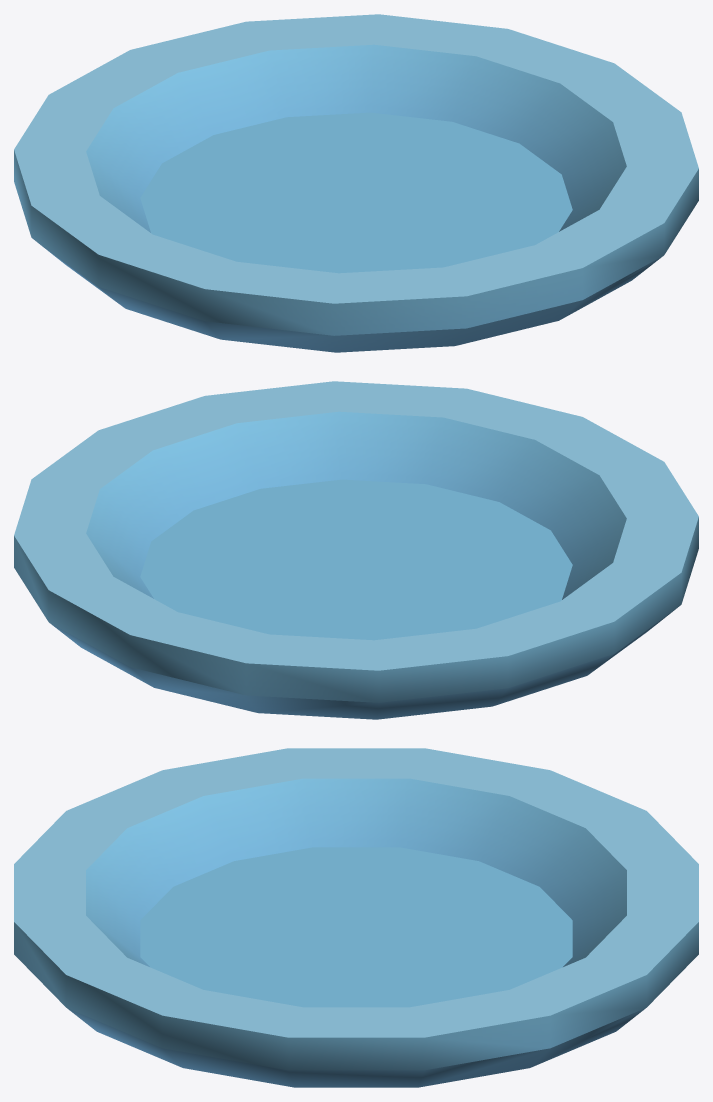
File: plate_blue.obj
The picture shows the model from 3 angles, top to bottom: view 1: azimuth 30°, elevation 25°; view 2: azimuth 150°, elevation 25°; view 3: azimuth 270°, elevation 25°; orthographic projection.
Parts seen in each view (by area): view 1: plate_blue; view 2: plate_blue; view 3: plate_blue.
Part boxes in pixels (x1,y1,x2,y2): plate_blue: [14, 14, 698, 352]; plate_blue: [14, 381, 698, 719]; plate_blue: [14, 748, 698, 1087].
Size of the model in its own units: 0.95 by 0.1 by 0.95.
1 material, 1 textured.
